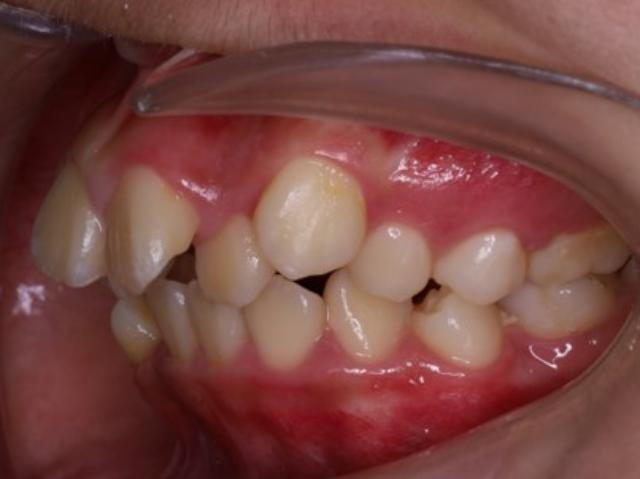canine class II 1/4: (243, 155, 412, 378)
molar class I: (502, 231, 638, 349)
